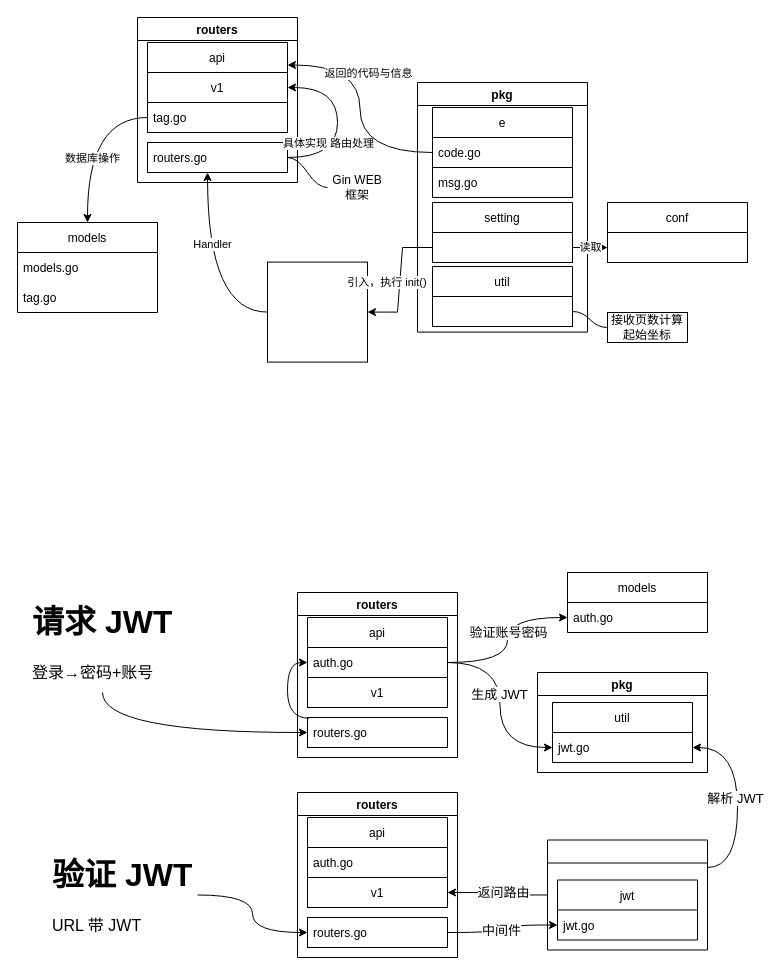
The diagram is 780 pixels wide and 975 high, and some of its shapes have lost their labels. The box of each missing label's shape, as (x1, y1, x2, y2) in pixels:
app.ini: (606, 232, 748, 262)
main.go ListenAndServe(): (266, 261, 368, 362)
middleware: (546, 839, 708, 950)
pageination.go: (432, 296, 572, 326)
setting.go: (432, 232, 572, 262)
